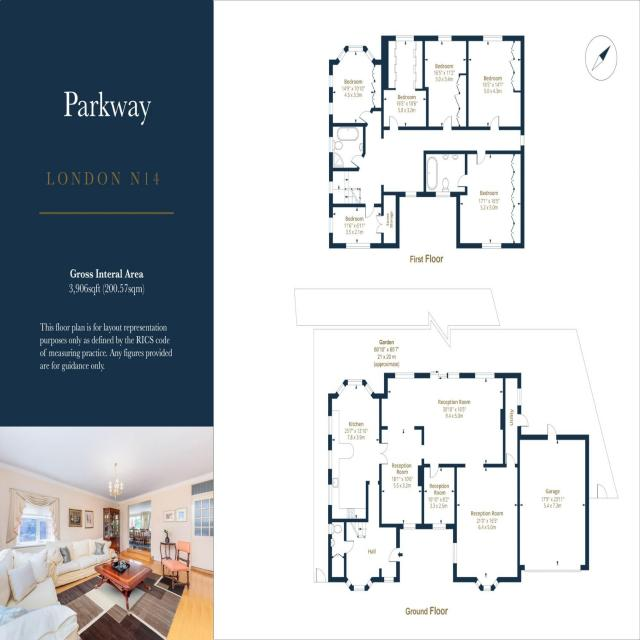DOOR: (379, 440, 389, 466), (387, 545, 400, 564), (358, 110, 373, 125), (350, 154, 364, 169), (428, 463, 440, 479), (490, 115, 500, 131), (365, 203, 375, 219), (389, 115, 399, 131), (476, 150, 486, 165), (457, 174, 468, 187), (443, 116, 452, 131)
ROOM: (456, 150, 525, 249), (466, 35, 524, 130), (381, 35, 429, 130), (422, 35, 469, 130), (329, 45, 376, 127), (329, 203, 384, 249), (422, 464, 457, 530)
WINDOW: (473, 370, 496, 381), (335, 379, 347, 399), (451, 540, 459, 566), (395, 371, 415, 381), (346, 242, 371, 249), (364, 382, 375, 397), (327, 414, 334, 437), (431, 521, 447, 531), (337, 48, 347, 63), (327, 482, 333, 506), (347, 378, 363, 387), (483, 35, 503, 42), (365, 48, 375, 62), (327, 447, 333, 470), (395, 35, 414, 42), (343, 576, 352, 590), (402, 521, 416, 530), (482, 243, 502, 249), (365, 577, 374, 590), (435, 191, 451, 198), (446, 372, 460, 380), (437, 35, 452, 42), (348, 45, 363, 52), (353, 584, 365, 592), (405, 191, 417, 198), (328, 181, 334, 194), (329, 217, 333, 234), (329, 136, 333, 153), (520, 134, 525, 146), (329, 102, 333, 115), (329, 75, 333, 88)
